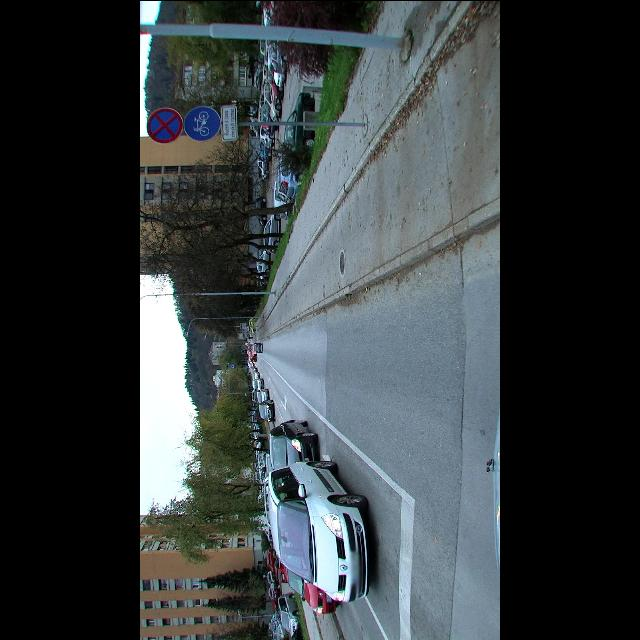Rectangle: (221, 102, 237, 140)
Round: (146, 105, 184, 141), (185, 104, 223, 140)
